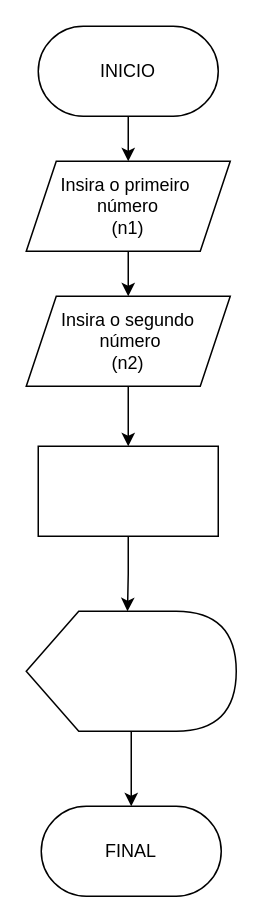
This 263x923 diagram has some shape labels left out. The shapes that lost their labels are listed below. From the top down, each one's centre as x and y in pixels, then its label:
pixel 127 490: Some os dois números (n1 + n2 = soma)
pixel 130 670: Exiba o resultado (soma)
